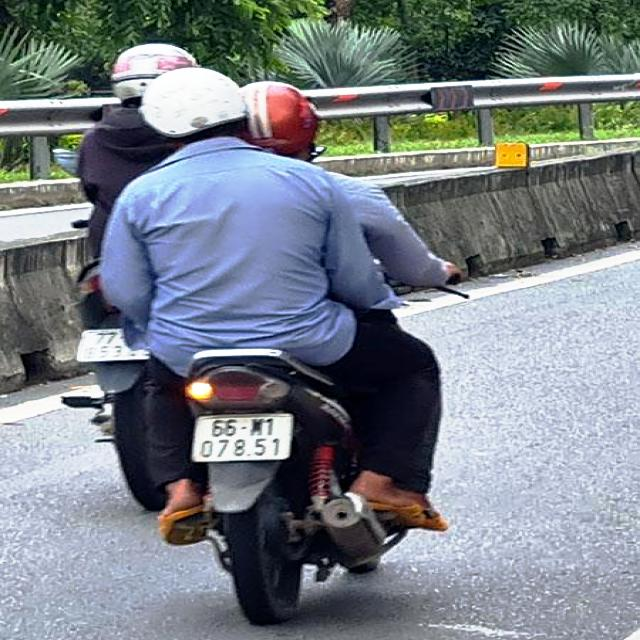license_plate: (194, 413, 296, 462)
